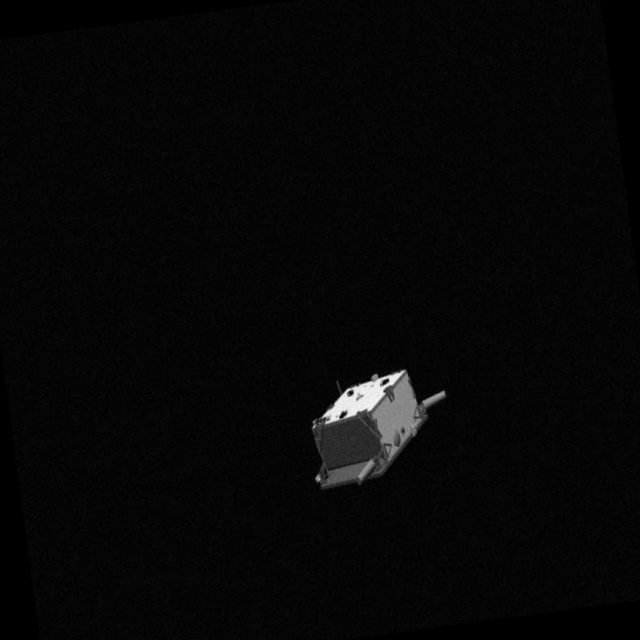satellite: (292, 361, 456, 509)
